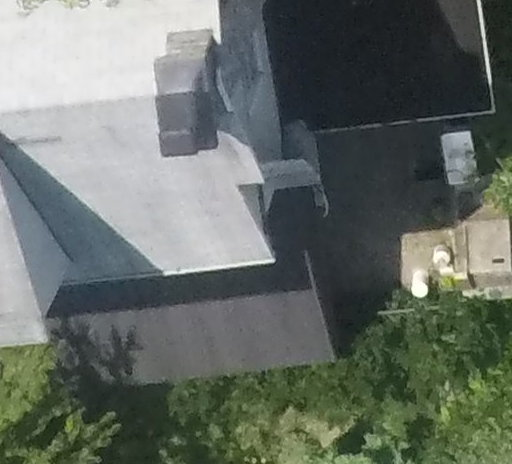container: (428, 241, 457, 272), (477, 183, 506, 212), (408, 265, 432, 300)
flower pot: (477, 188, 503, 209)
gutter: (59, 253, 279, 287), (312, 110, 497, 145), (466, 1, 507, 114), (303, 247, 337, 368)
